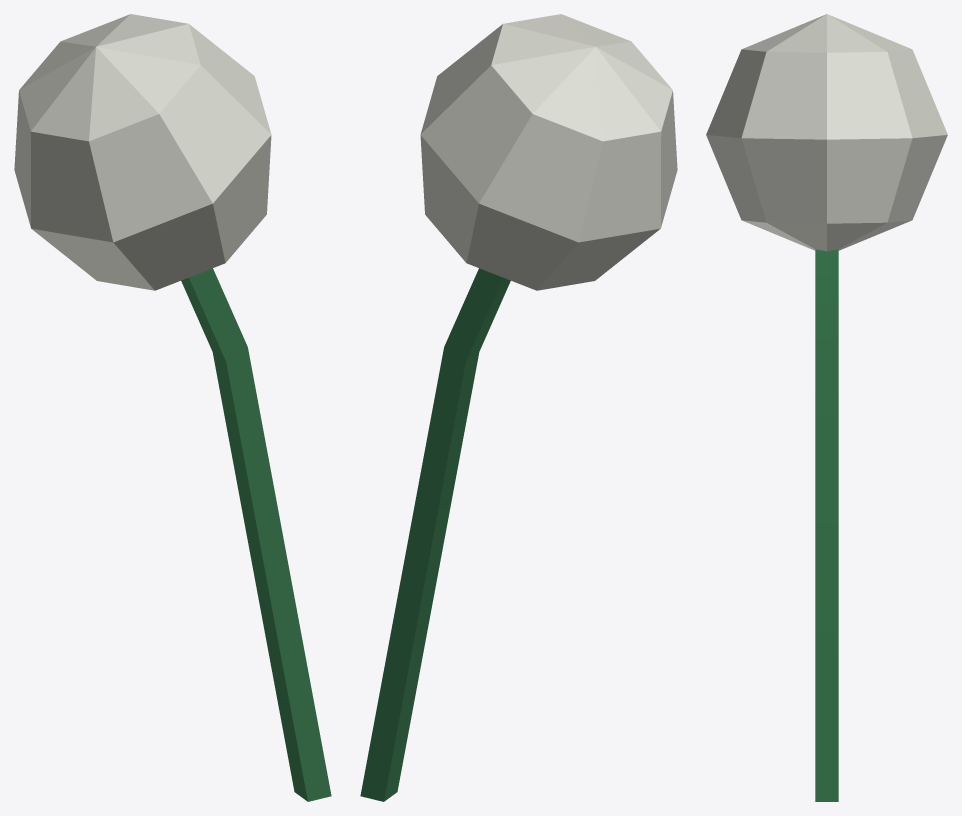
Rendered from dandelion_bent.fbx.
3 views of the same model, side by side, from view 1: azimuth 30°, elevation 25°; view 2: azimuth 150°, elevation 25°; view 3: azimuth 270°, elevation 25° (orthographic). The views are drawn at different scales.
Visible parts, largest first — view 1: pCube4; view 2: pCube4; view 3: pCube4.
Boxes of the visible parts, bbox=[...] form: pCube4: bbox=[14, 14, 331, 801]; pCube4: bbox=[360, 14, 677, 801]; pCube4: bbox=[706, 14, 947, 801].
Size of the model in its own units: 1.84 by 4.8 by 1.52.
